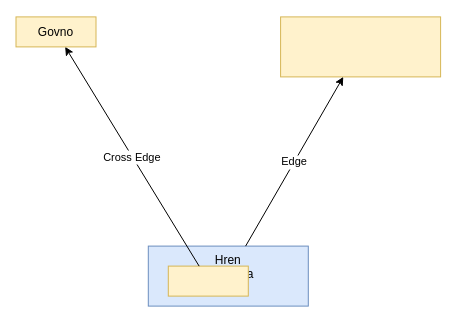
The diagram is 457 pixels wide and 323 high, and some of its shapes have lost their labels. Here are the shapes that lost their labels. From the top down, the box of each, then its label:
(280, 16, 441, 77): World!
(167, 265, 248, 296): Purum
